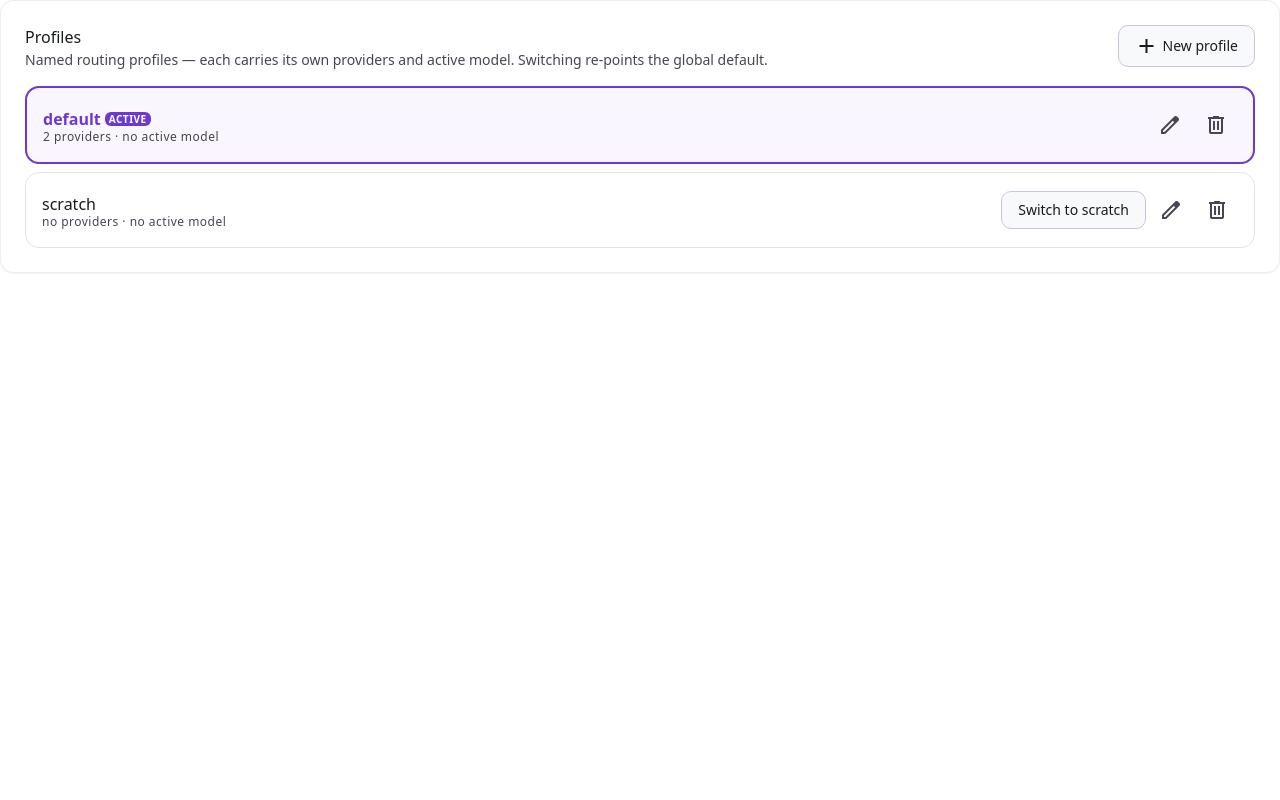
ProfilesSection (R3-2) › asks for confirmation before switching to an EMPTY profile; cancel is a no-op
Click the button with test id "profile-switch-scratch": coordinates (1074, 210) [1001, 191, 1146, 229]
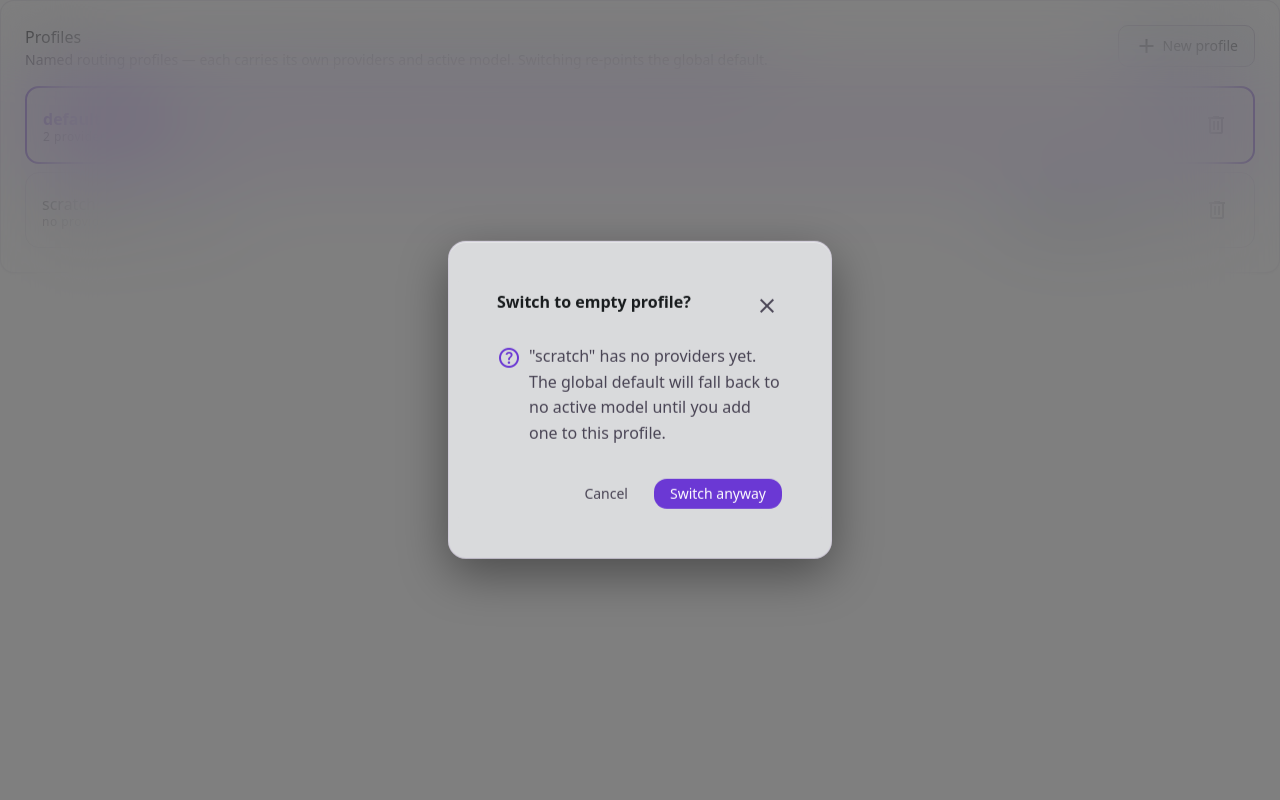
Expected: the dialog is shown, [448, 241, 832, 559]
Expected: the dialog shows "scratch", [529, 345, 780, 444]
Click the button "Cancel": coordinates (606, 494) [567, 478, 645, 510]
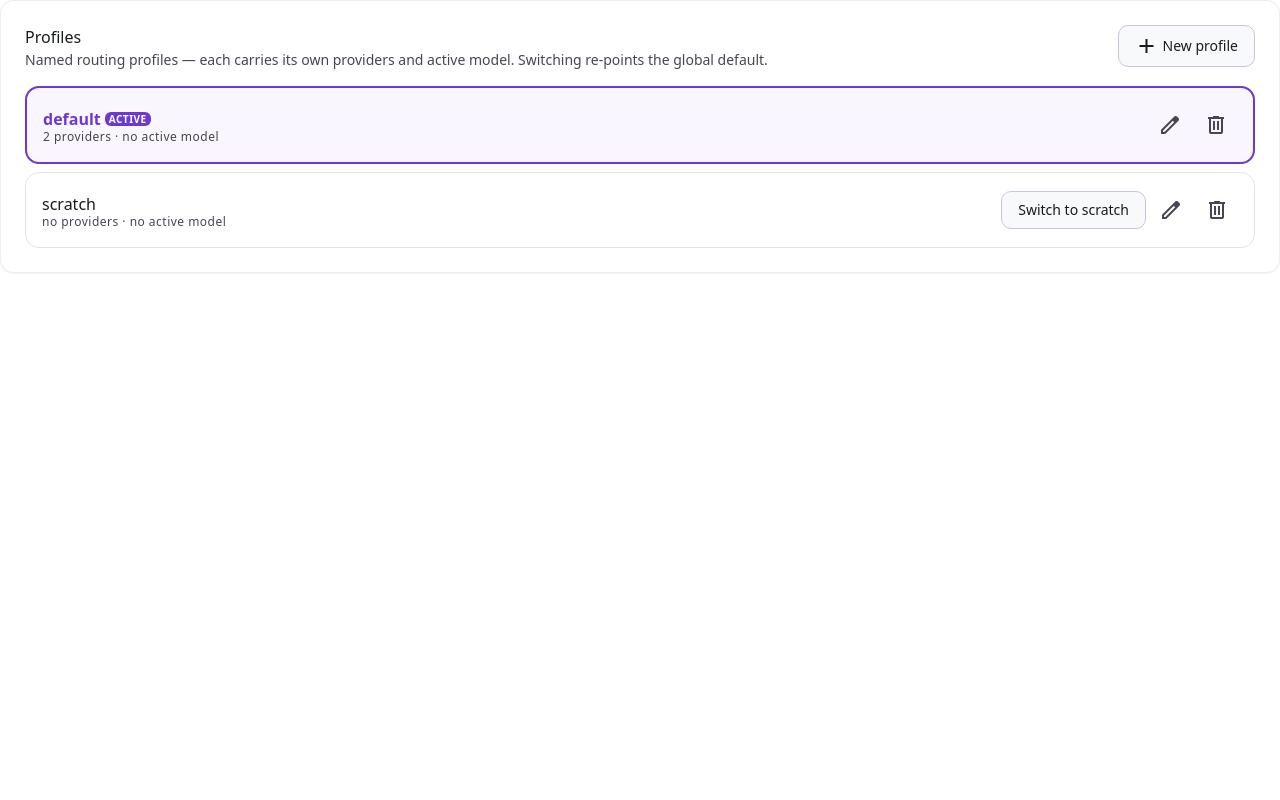
Expected: the dialog is gone
